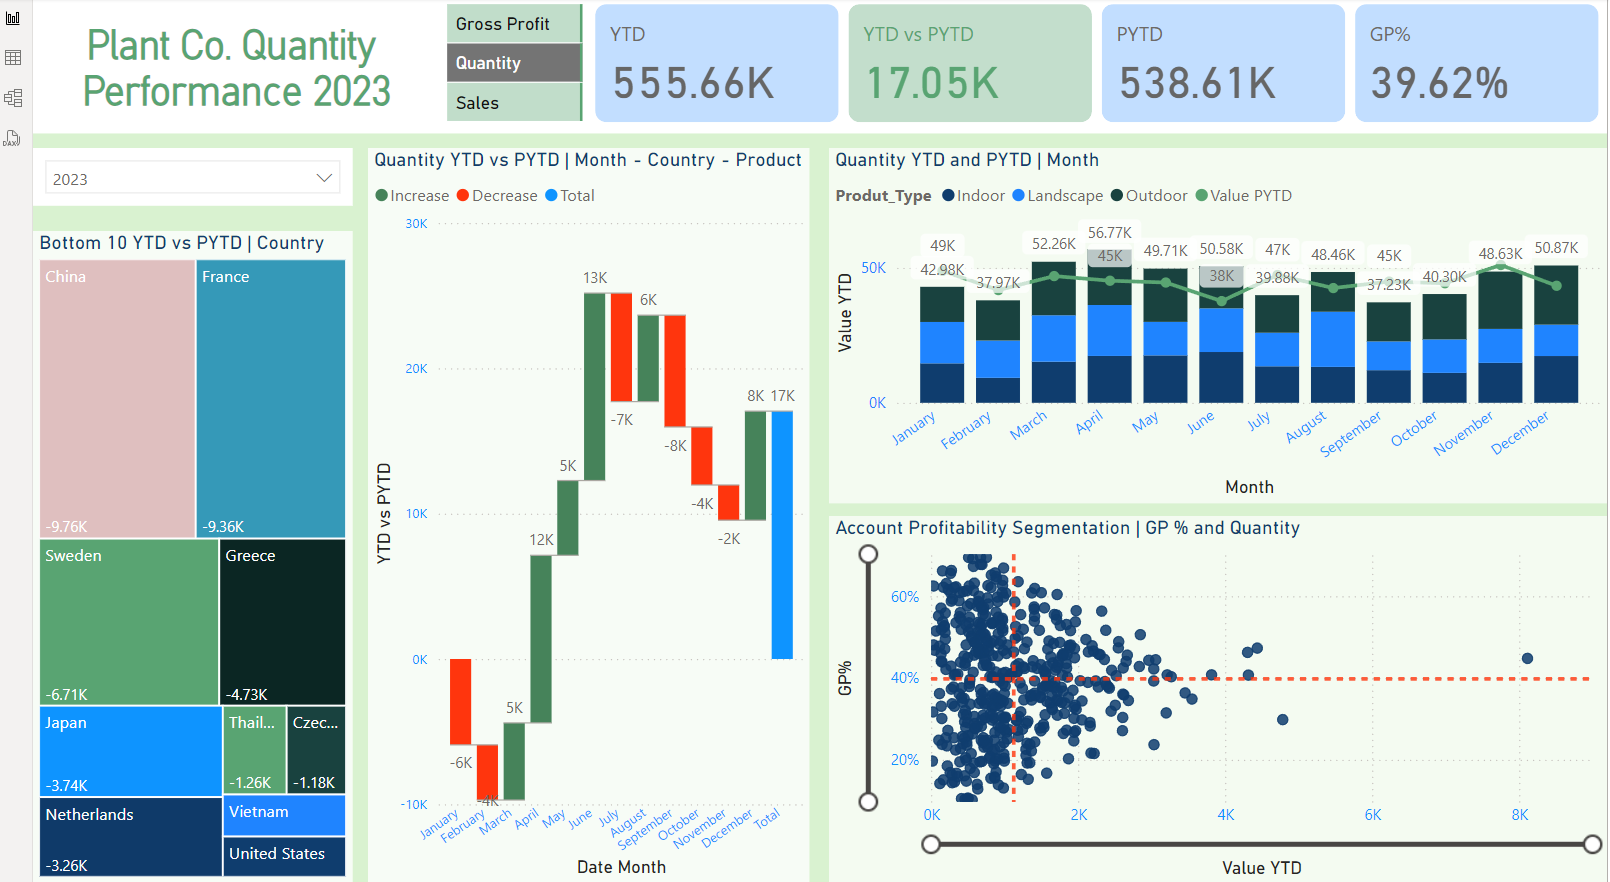

Layout of this report page (visuals, bound fields, positions):
{"tool":"powerbi","page":{"name":"Performance Report","canvas":[1280,720],"ordinal":0},"visuals":[{"type":"cardVisual","fields":{"Data":["_Meaures.S_YTD","_Meaures.YTD vs PYTD","_Meaures.S_PYTD","_Meaures.GP%"]},"box":[452.3,0,827.7,106.8],"z":0},{"type":"slicer","fields":{"Values":["Dim_Date.Date.Variation.Date Hierarchy.Year"]},"box":[0,121.8,259.6,46.9],"z":1000},{"type":"advancedSlicerVisual","fields":{"Values":["Slc_Values.Values"]},"box":[331.5,0,120.8,106.8],"z":2000},{"type":"treemap","title":"Bottom 10 YTD vs PYTD | Country","fields":{"Values":["_Meaures.YTD vs PYTD"],"Group":["Dim_Account.country"]},"box":[0,189.7,259.6,530.2],"z":3000},{"type":"waterfallChart","fields":{"Y":["_Meaures.YTD vs PYTD"],"Category":["Dim_Date.Date.Variation.Date Hierarchy.Month","Dim_Account.country","Dim_Product.Produt_Type","Dim_Product.Product_Name"]},"box":[272.6,121.8,359.4,598.1],"z":4000},{"type":"lineStackedColumnComboChart","fields":{"Y":["_Meaures.S_YTD"],"Y2":["_Meaures.S_PYTD"],"Category":["Dim_Date.Date.Variation.Date Hierarchy.Quarter","Dim_Date.Date.Variation.Date Hierarchy.Month"],"Series":["Dim_Product.Produt_Type"]},"box":[647,121.8,633,288.5],"z":5000},{"type":"scatterChart","fields":{"Y":["_Meaures.GP%"],"X":["_Meaures.S_YTD"],"Category":["Dim_Account.Account"]},"box":[647,421.3,633,298.5],"z":6000},{"type":"card","fields":{"Values":["_Meaures._Report title"]},"box":[0,0,331.5,106.8],"z":7000}]}

Visuals, with their boxes on the page's 1280x720 design canvas (x1, y1, x2, y2). These are canvas units, not pixel positions in the 1610x882 screenshot, which may show the page scaled, cropped or inside an application window:
cardVisual - _Meaures.S_YTD x _Meaures.YTD vs PYTD: crop(452, 0, 1280, 107)
slicer - Dim_Date.Date.Variation.Date Hierarchy.Year: crop(0, 122, 260, 169)
advancedSlicerVisual - Slc_Values.Values: crop(332, 0, 452, 107)
"Bottom 10 YTD vs PYTD | Country" treemap: crop(0, 190, 260, 720)
waterfallChart - _Meaures.YTD vs PYTD x Dim_Date.Date.Variation.Date Hierarchy.Month: crop(273, 122, 632, 720)
lineStackedColumnComboChart - _Meaures.S_YTD x _Meaures.S_PYTD: crop(647, 122, 1280, 410)
scatterChart - _Meaures.GP% x _Meaures.S_YTD: crop(647, 421, 1280, 720)
card - _Meaures._Report title: crop(0, 0, 332, 107)
